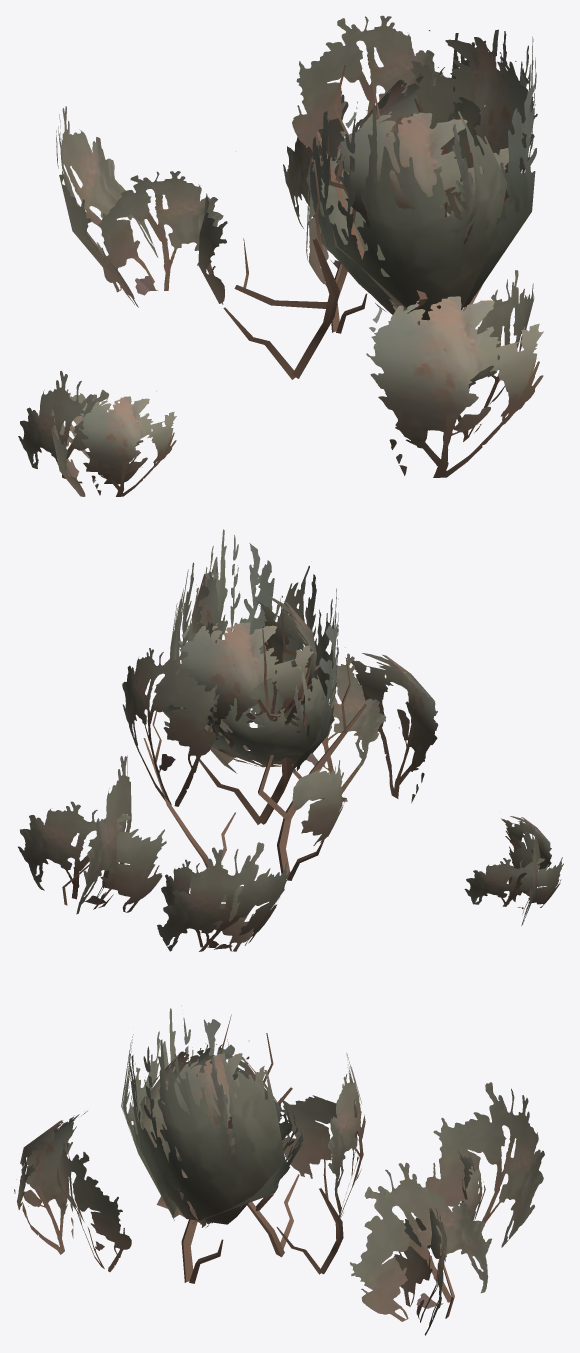
3 views of the same model, one above another, from view 1: azimuth 30°, elevation 25°; view 2: azimuth 150°, elevation 25°; view 3: azimuth 270°, elevation 25° (orthographic). The views are drawn at different scales.
Parts seen in each view (by area): view 1: body0_model0_lod0_mesh0; view 2: body0_model0_lod0_mesh0; view 3: body0_model0_lod0_mesh0.
Part boxes in pixels (box(x1,y1,x2,y2)): body0_model0_lod0_mesh0: box(18, 15, 543, 496); body0_model0_lod0_mesh0: box(18, 529, 563, 951); body0_model0_lod0_mesh0: box(14, 1005, 544, 1335).
Size of the model in its own units: 59.62 by 39.74 by 68.42.
1 material, 1 textured.
